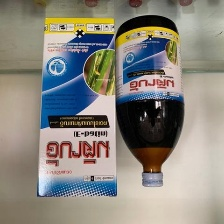carton: (31, 14, 118, 202)
insecticide: (112, 12, 187, 189)
